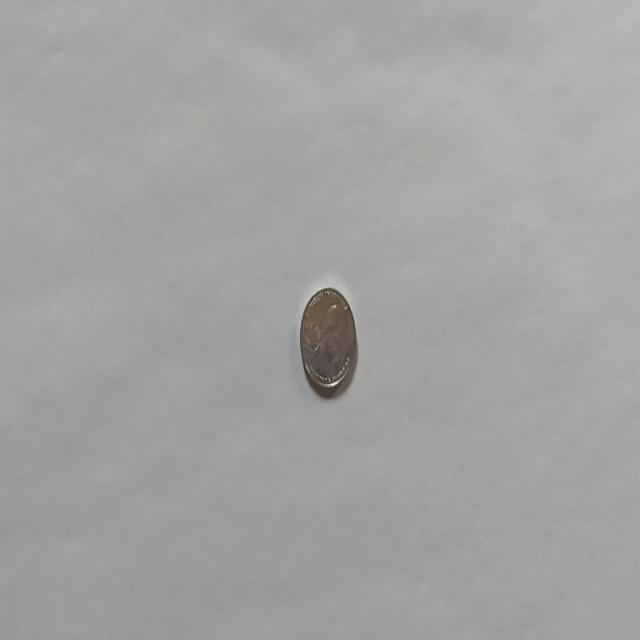lima ratus rupiah: (298, 285, 358, 395)
